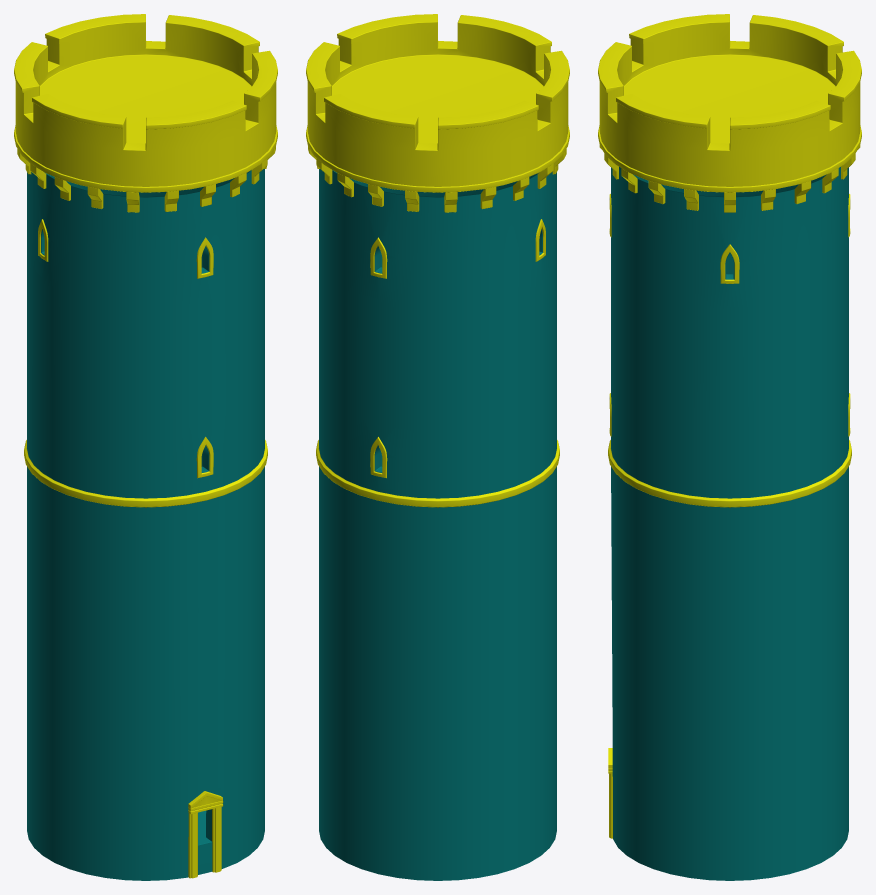
File: TowerGuard.fbx
The picture shows the model from 3 angles, left to right: view 1: azimuth 30°, elevation 25°; view 2: azimuth 150°, elevation 25°; view 3: azimuth 270°, elevation 25°; orthographic projection.
Visible parts, largest first — view 1: TowerGuardMain, TowerGuardTop, TowerGuardRingB, TowerGuardRingA, TowerGuardEntrance, TowerGuardWindows; view 2: TowerGuardMain, TowerGuardTop, TowerGuardRingB, TowerGuardRingA, TowerGuardWindows; view 3: TowerGuardMain, TowerGuardTop, TowerGuardRingB, TowerGuardRingA, TowerGuardWindows.
Part boxes in pixels (x1,y1,x2,y2): TowerGuardMain: (27,169,264,880); TowerGuardTop: (14,14,277,186); TowerGuardRingB: (14,125,277,212); TowerGuardRingA: (24,440,267,507); TowerGuardEntrance: (188,791,223,878); TowerGuardWindows: (38,219,213,478); TowerGuardMain: (319,169,556,880); TowerGuardTop: (306,14,569,186); TowerGuardRingB: (306,125,569,212); TowerGuardRingA: (316,440,559,507); TowerGuardWindows: (370,219,545,478); TowerGuardMain: (611,167,848,880); TowerGuardTop: (598,14,861,186); TowerGuardRingB: (598,125,861,212); TowerGuardRingA: (608,440,851,507); TowerGuardWindows: (609,194,850,436).
Bounding box in the file's own units: 1759 × 5598 × 1759.
